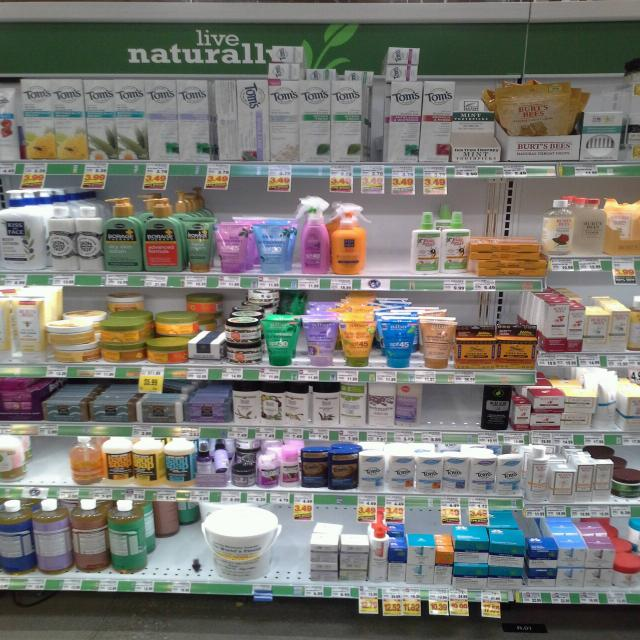void: (372, 200, 408, 275), (428, 386, 480, 432), (34, 436, 64, 485)
